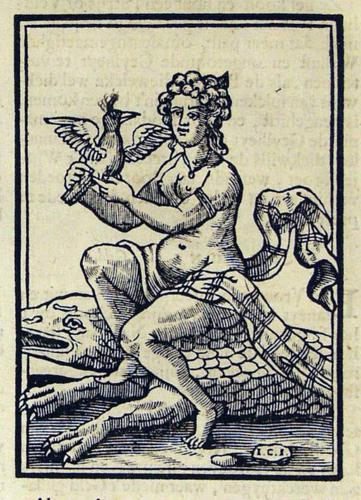bird: (41, 107, 173, 203)
dragon: (19, 293, 335, 466)
